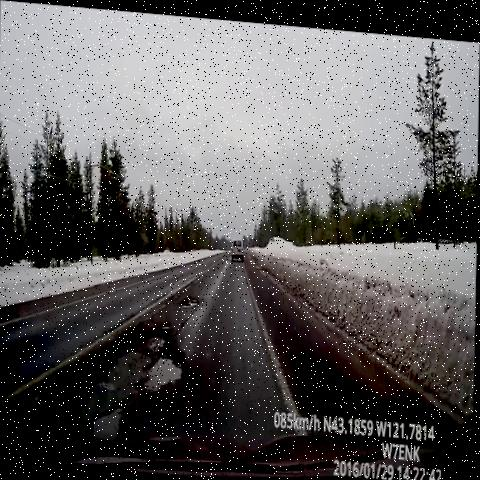pothole: (137, 313, 194, 401), (89, 385, 134, 452), (176, 277, 205, 316)
